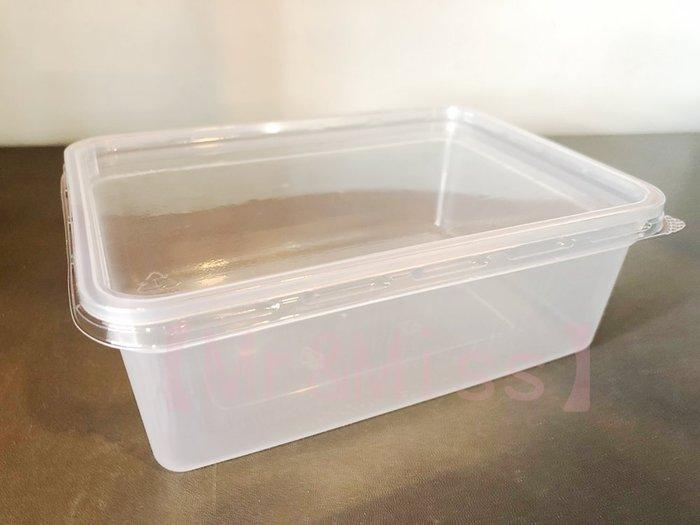plastic: (62, 107, 678, 470)
